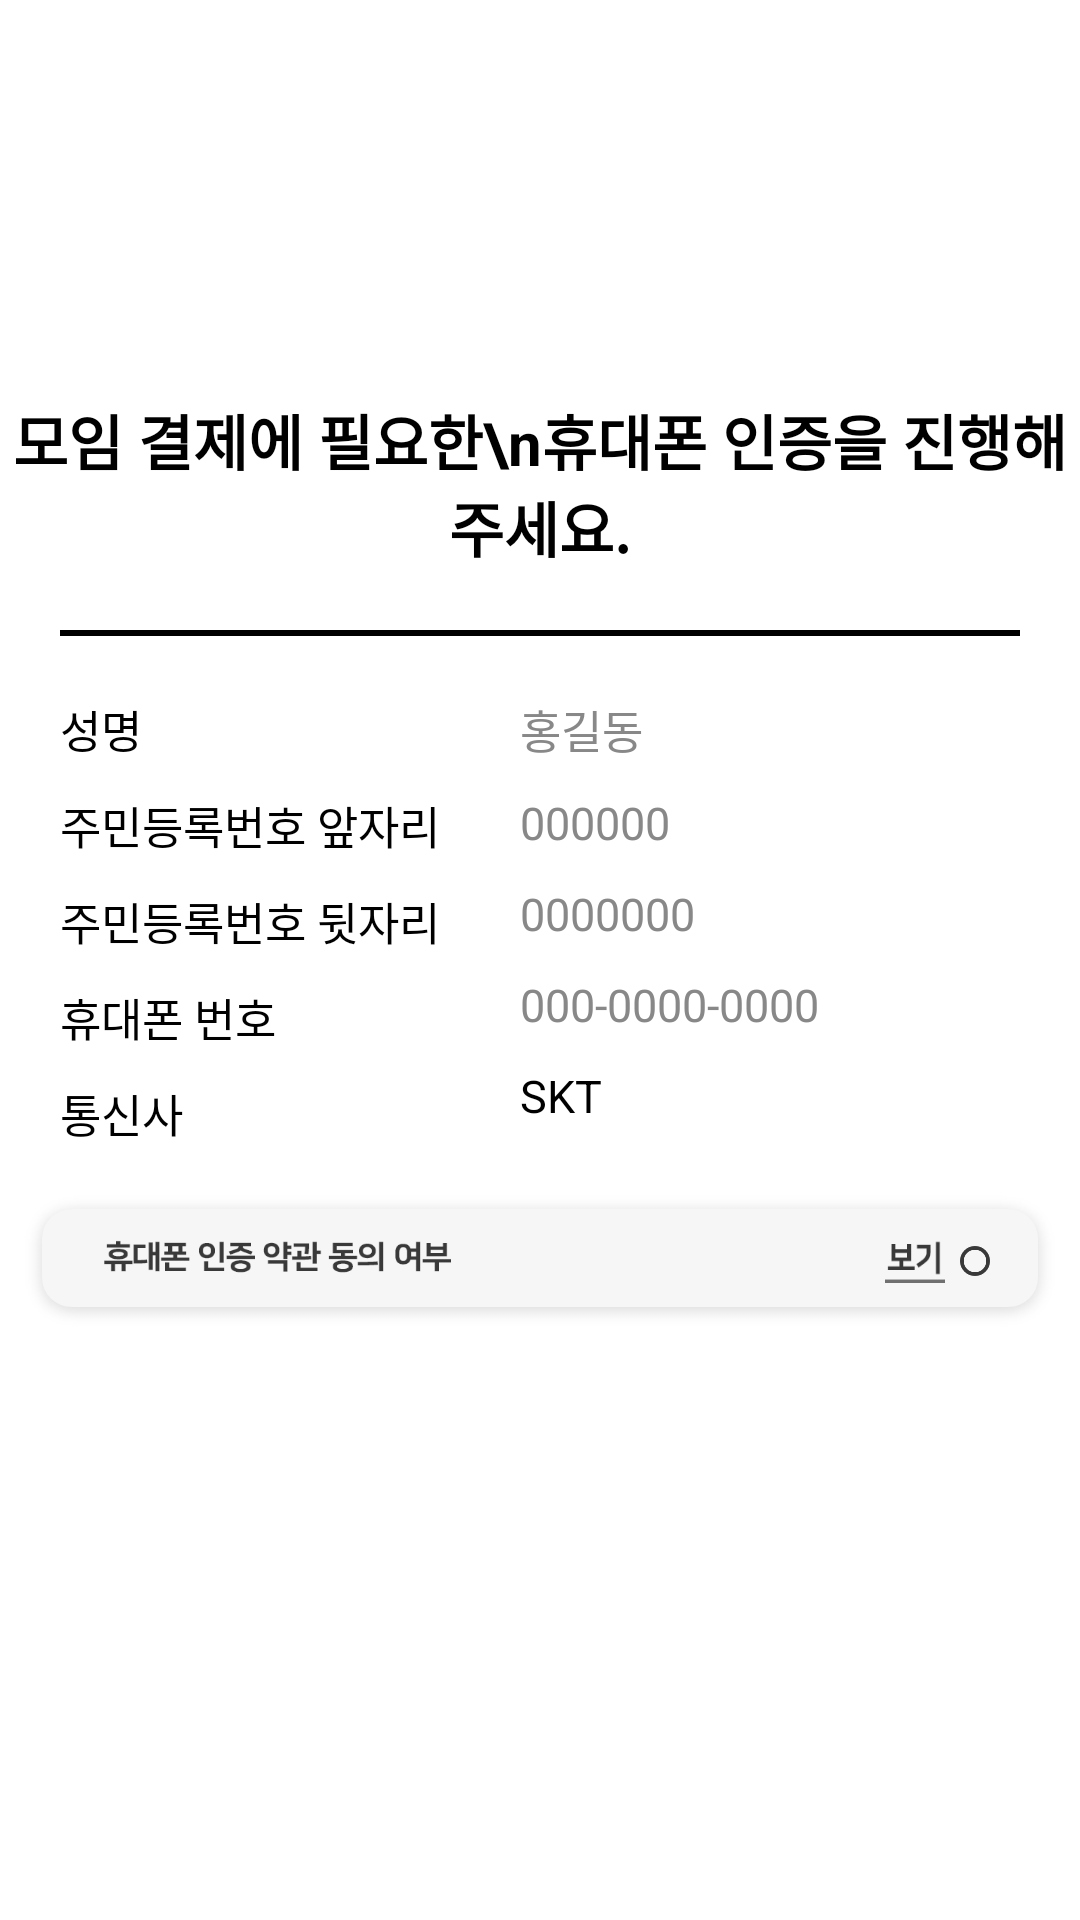

Icons on this 1080x1920 Android screen, each with the point to tap as point (x, y):
non check: point (975, 1261)
